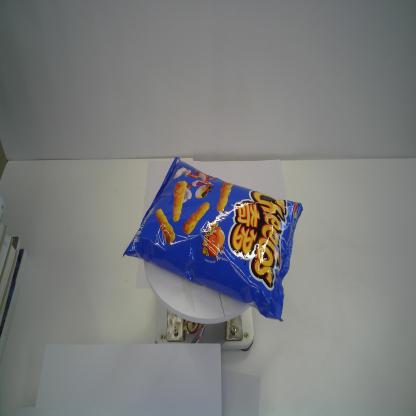Puffed Food: (121, 156, 304, 324)
